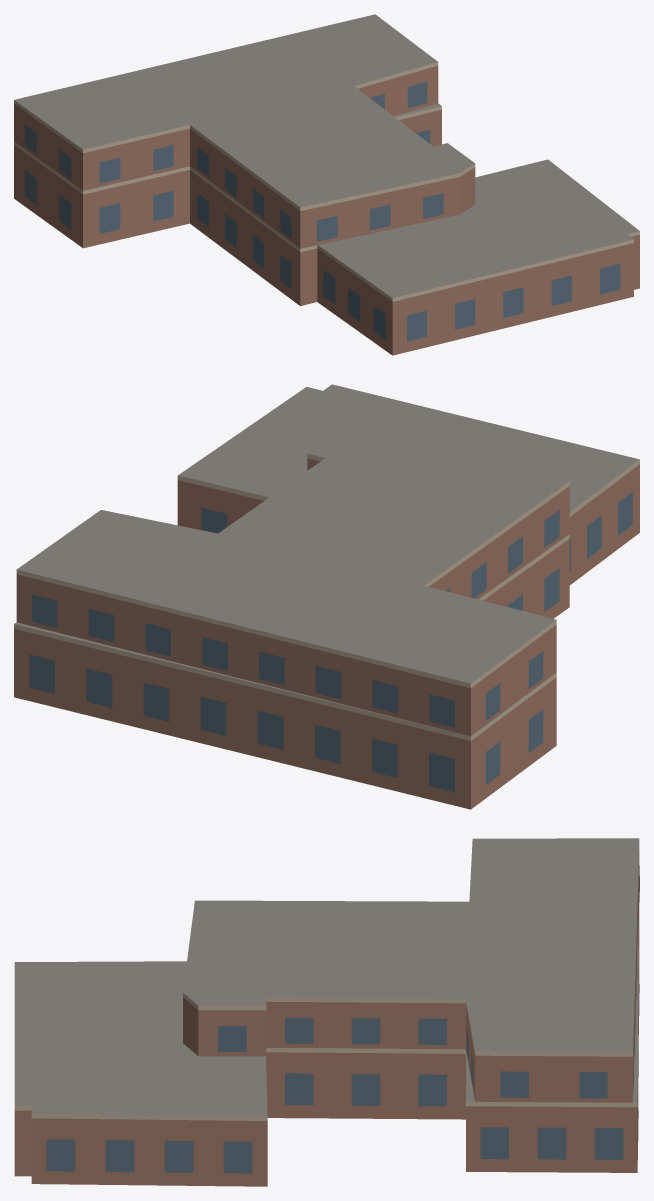
The model's file is dc-au-media-production-center.glb.
3 views of the same model, one above another, from view 1: azimuth 30°, elevation 25°; view 2: azimuth 150°, elevation 25°; view 3: azimuth 270°, elevation 25° (orthographic). The views are drawn at different scales.
Parts seen in each view (by area): view 1: Media Production Center; view 2: Media Production Center; view 3: Media Production Center.
Boxes of the visible parts, x1,y1,x2,y2 form: Media Production Center: (14,14,639,355); Media Production Center: (14,384,639,809); Media Production Center: (14,838,639,1186).
Bounding box in the file's own units: 34.84 × 8.6 × 40.42.
